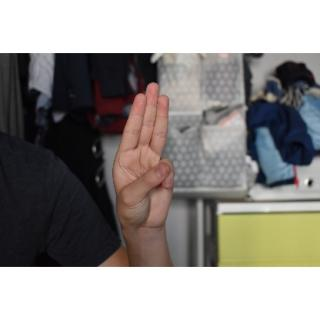THA: (108, 78, 177, 237)
